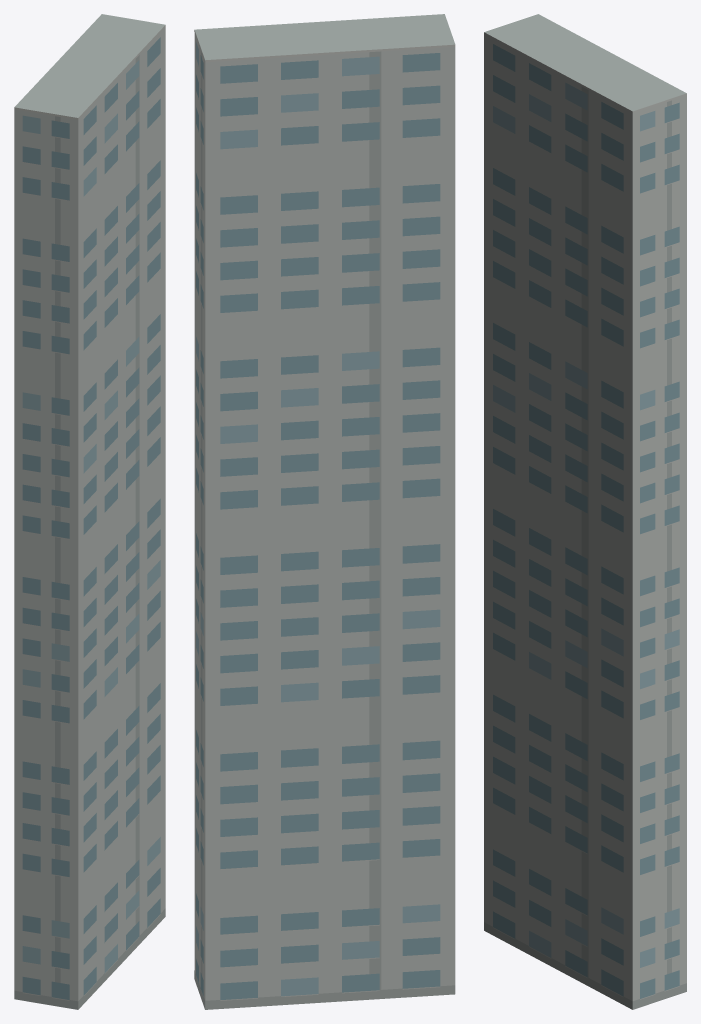
Rendered from residential-fab11902-44cb-46b0-835d-3653d234be73.glb.
3 renders of one model, left to right at view 1: azimuth 30°, elevation 25°; view 2: azimuth 150°, elevation 25°; view 3: azimuth 270°, elevation 25°, orthographic. The views are drawn at different scales.
Parts seen in each view (by area): view 1: residential-fab11902-44cb-46b0-835d-3653d234be73.tmp; view 2: residential-fab11902-44cb-46b0-835d-3653d234be73.tmp; view 3: residential-fab11902-44cb-46b0-835d-3653d234be73.tmp.
Part boxes in pixels (x1,y1,x2,y2): residential-fab11902-44cb-46b0-835d-3653d234be73.tmp: (14,14,165,1009); residential-fab11902-44cb-46b0-835d-3653d234be73.tmp: (194,14,455,1009); residential-fab11902-44cb-46b0-835d-3653d234be73.tmp: (484,14,686,1009).
Size of the model in its own units: 24.43 by 105 by 21.49.
